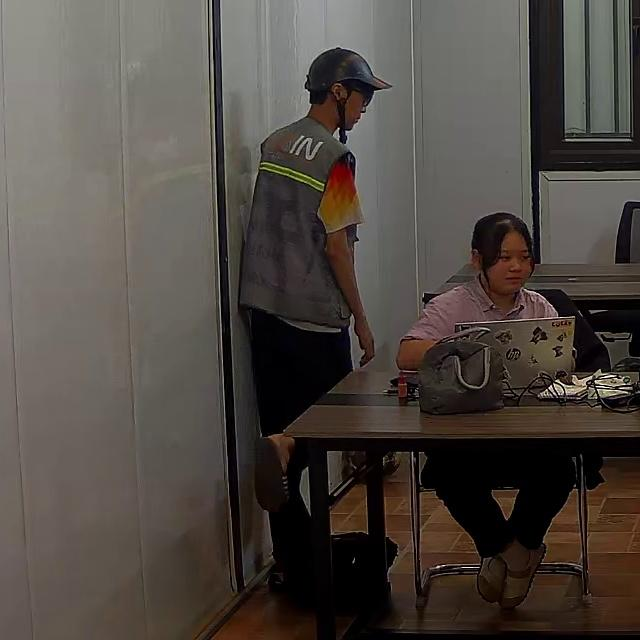helmet: (305, 46, 392, 100)
no_helmet: (471, 212, 534, 276)
none: (400, 277, 557, 360)
vest: (236, 116, 365, 328)
